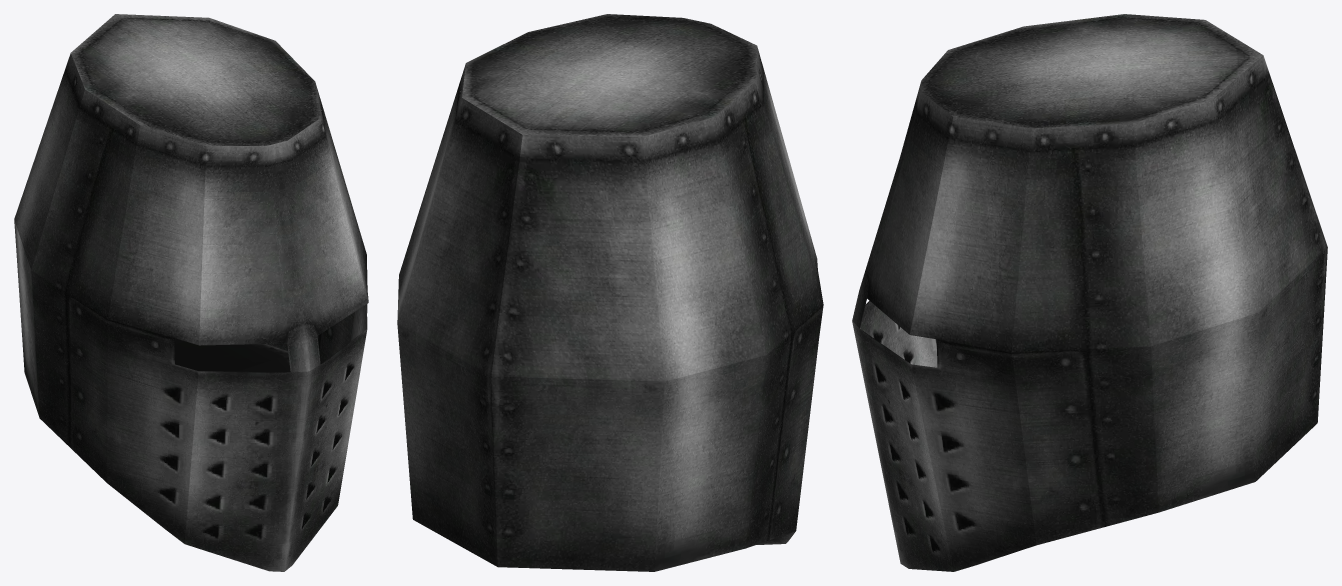
File: GREATHELM.glb
3 renders of one model, left to right at view 1: azimuth 30°, elevation 25°; view 2: azimuth 150°, elevation 25°; view 3: azimuth 270°, elevation 25°, orthographic. The views are drawn at different scales.
Visible parts, largest first — view 1: GREATHELM; view 2: GREATHELM; view 3: GREATHELM.
Boxes of the visible parts, x1,y1,x2,y2 form: GREATHELM: (14, 14, 368, 571); GREATHELM: (397, 14, 823, 571); GREATHELM: (852, 14, 1327, 571).
Bounding box in the file's own units: 0.2349 × 0.3463 × 0.2967.
1 material, 1 textured.
